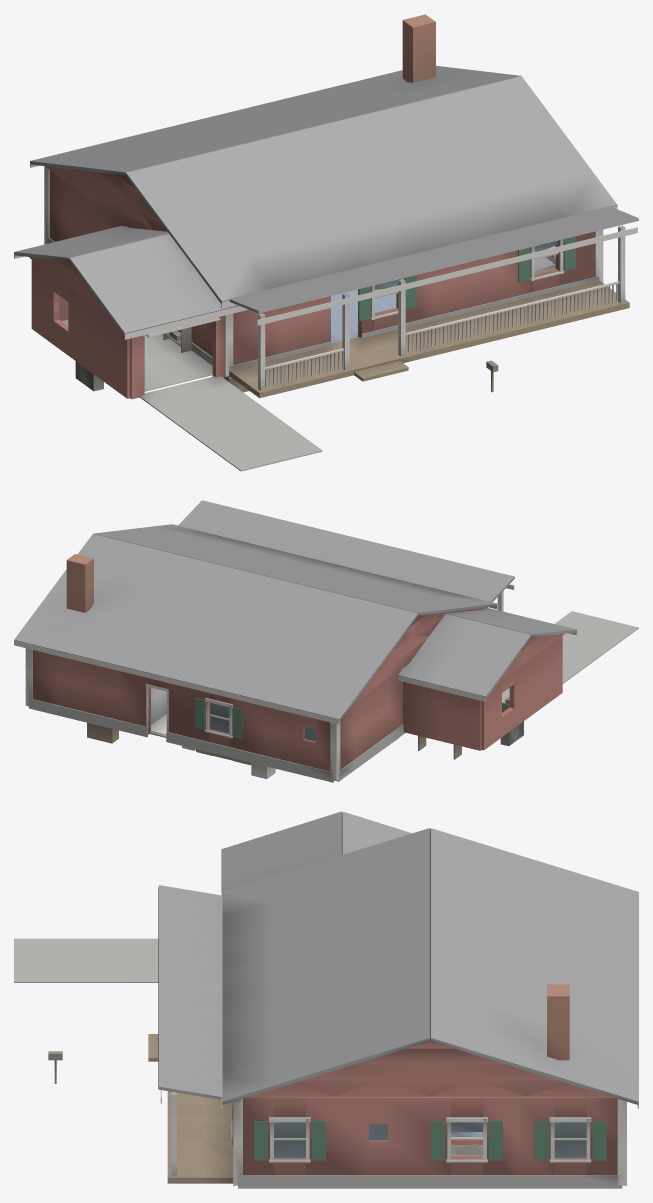
The model's file is casa_us_2.glb.
3 views of the same model, one above another, from view 1: azimuth 30°, elevation 25°; view 2: azimuth 150°, elevation 25°; view 3: azimuth 270°, elevation 25° (orthographic). The views are drawn at different scales.
Parts seen in each view (by area): view 1: longe, ext, dentro, detalhe; view 2: longe, ext, detalhe, dentro, guarda_roupa_quarto34; view 3: longe, ext, detalhe.
Boxes of the visible parts, bbox=[...] form: longe: bbox=[14, 65, 638, 471]; ext: bbox=[29, 14, 603, 399]; dentro: bbox=[62, 245, 555, 391]; detalhe: bbox=[146, 236, 576, 392]; longe: bbox=[14, 500, 638, 724]; ext: bbox=[25, 554, 564, 782]; detalhe: bbox=[146, 684, 461, 759]; dentro: bbox=[149, 687, 509, 737]; guarda_roupa_quarto34: bbox=[87, 722, 118, 743]; longe: bbox=[14, 811, 638, 1183]; ext: bbox=[233, 984, 626, 1188]; detalhe: bbox=[48, 1034, 606, 1162].
Size of what is drawn, in the model's own units: 19.3 by 7.04 by 19.52.
